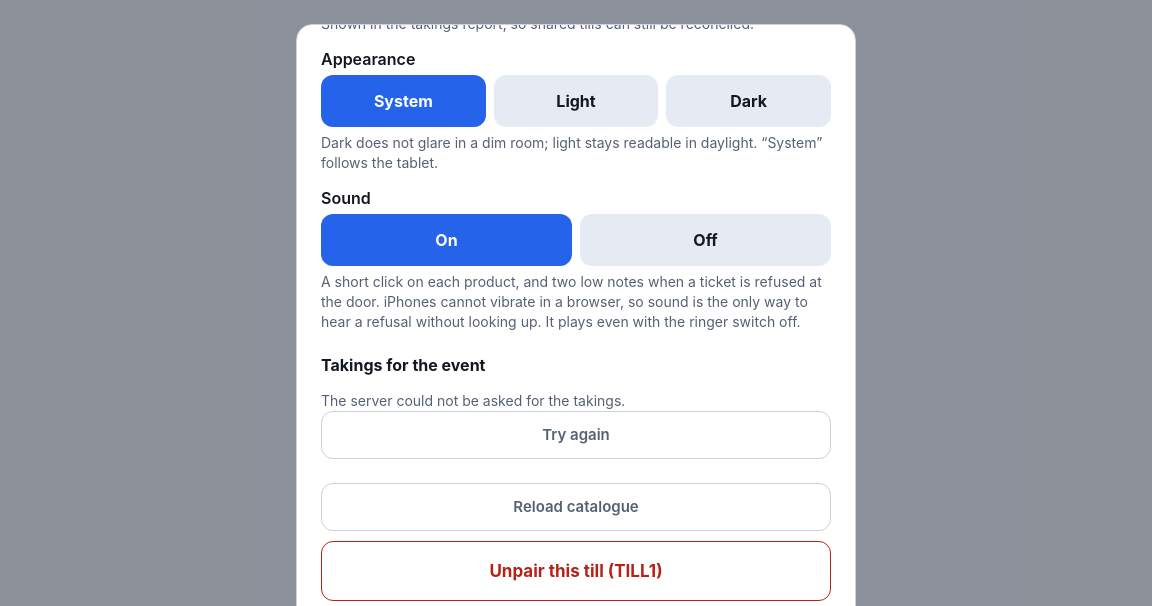
it: the takings › says so, and offers another go, rather than three dots for ever
This screenshot has width=1152, height=606.
(page scrolled)
Expected: the text "The server could not be asked for the takings." is shown, [321,392,625,409]
Step 1. Click the button "Try again" → point(576, 435), box [321,411,831,459]
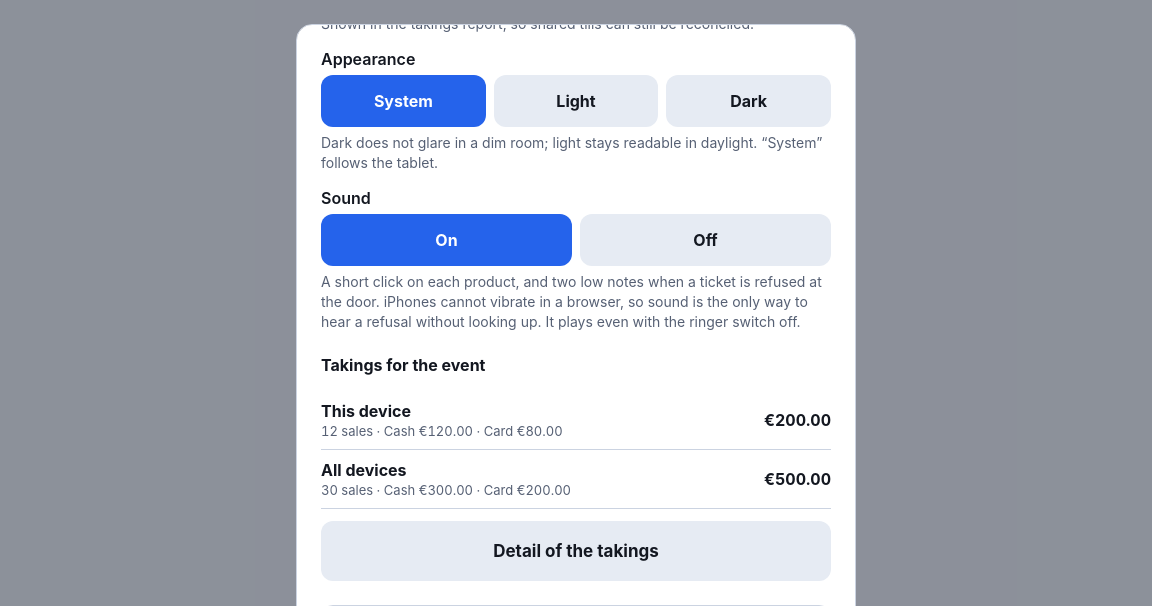
Expected: the text "All devices" is shown, [321,460,407,480]
